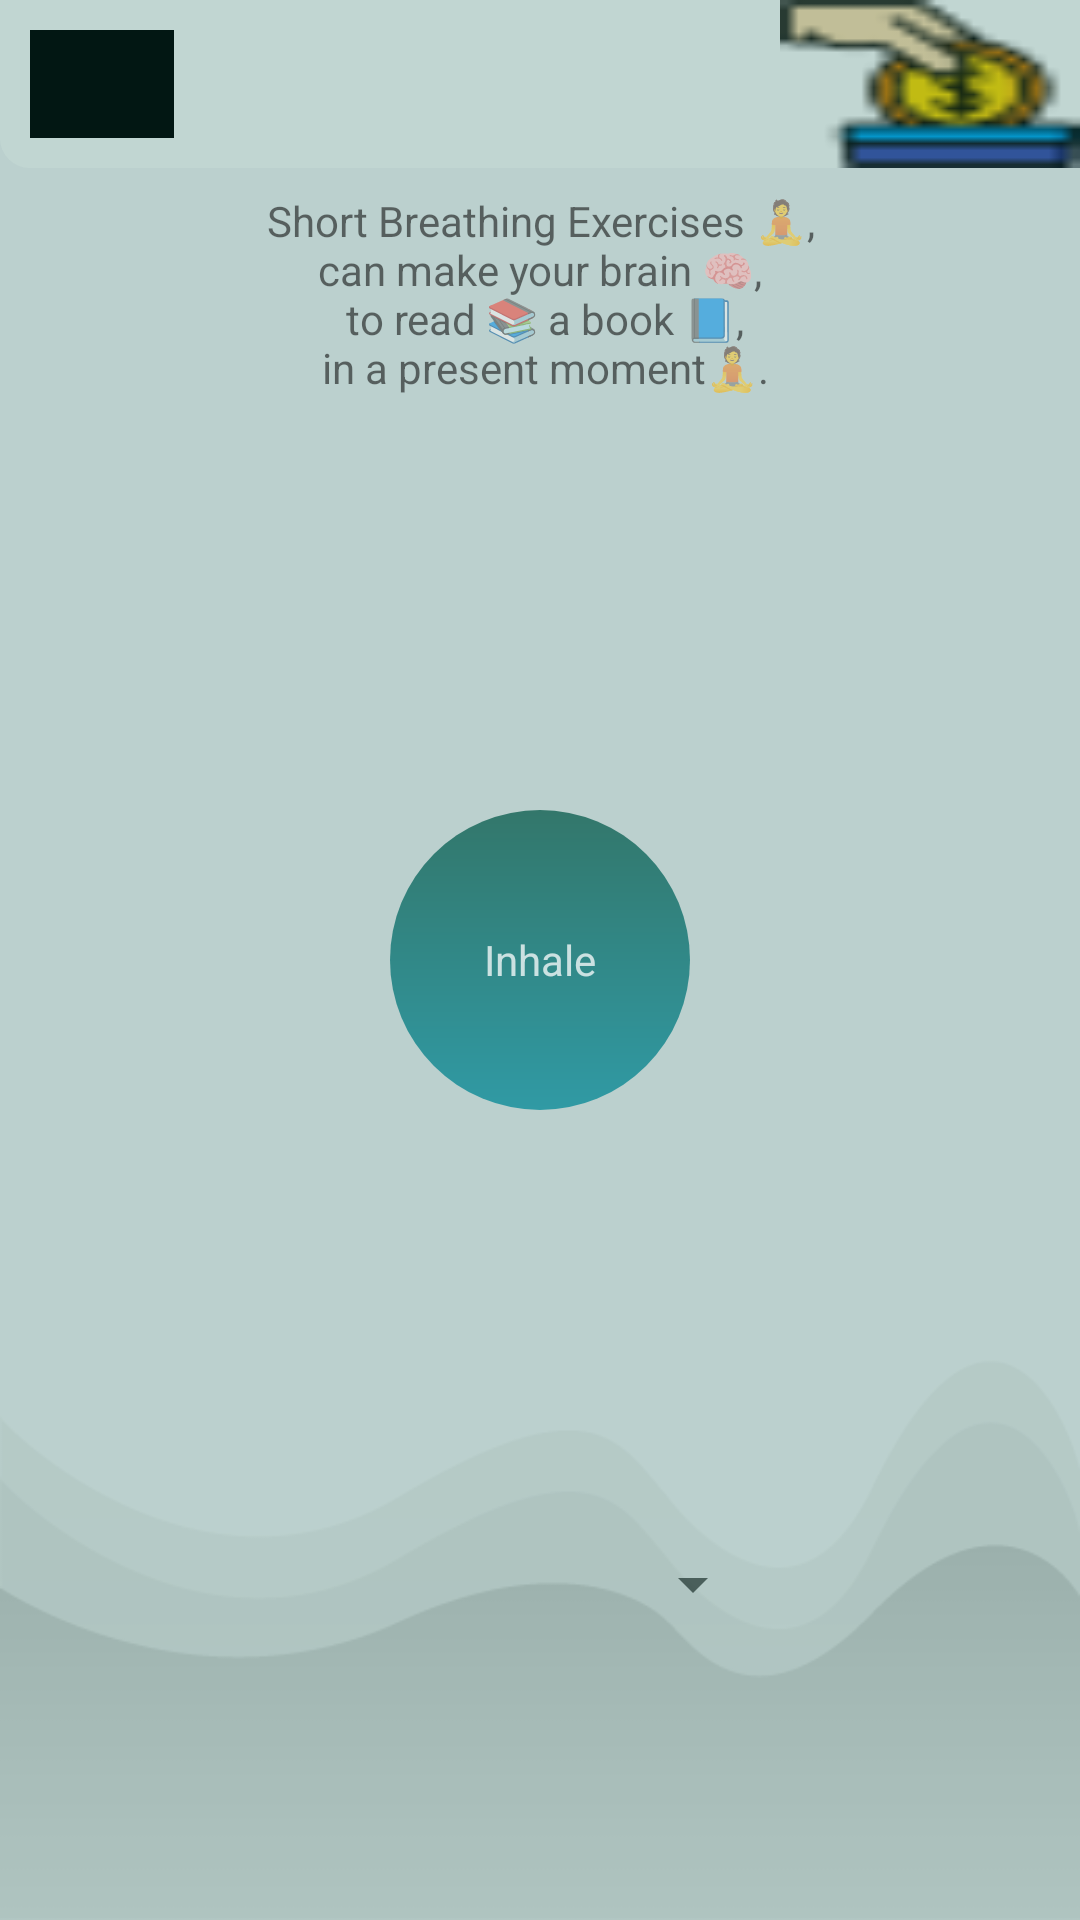

Icon bounding boxes for this 1080px×1920px phone screenshot, format (left=x1, top=y1, right=x2, bottom=y2):
donation: (left=780, top=0, right=1080, bottom=168)
